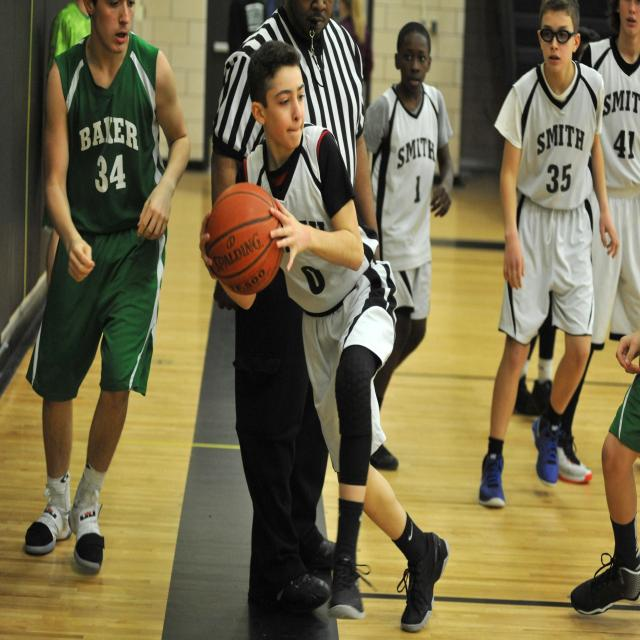body: (200, 38, 452, 633), (208, 0, 383, 622), (22, 0, 192, 575), (475, 0, 621, 513), (356, 20, 456, 478), (540, 0, 624, 487), (565, 319, 640, 638), (43, 0, 91, 288), (201, 0, 368, 49), (507, 286, 561, 418)
